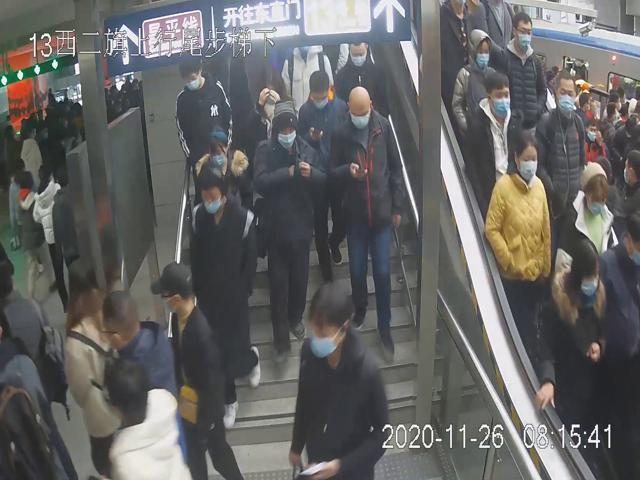person: (280, 280, 391, 480), (181, 173, 263, 426), (332, 84, 405, 365), (149, 259, 239, 480), (255, 101, 327, 367), (535, 236, 611, 454), (483, 128, 553, 361), (297, 66, 350, 287), (535, 70, 588, 234), (174, 53, 233, 192), (190, 124, 254, 232), (469, 72, 526, 193), (452, 26, 501, 145), (501, 14, 548, 138), (337, 40, 389, 117)
